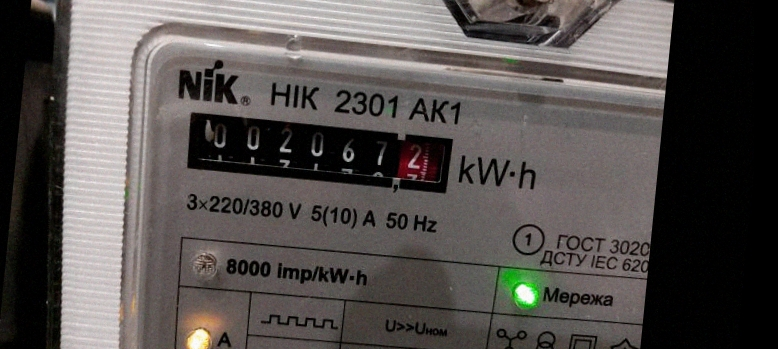0: (208, 120, 229, 151), (305, 127, 326, 157), (242, 121, 262, 152)
2: (403, 140, 424, 171), (275, 125, 295, 155)
6: (338, 134, 358, 164)
7: (370, 137, 389, 168)
screen: (169, 98, 468, 208)
